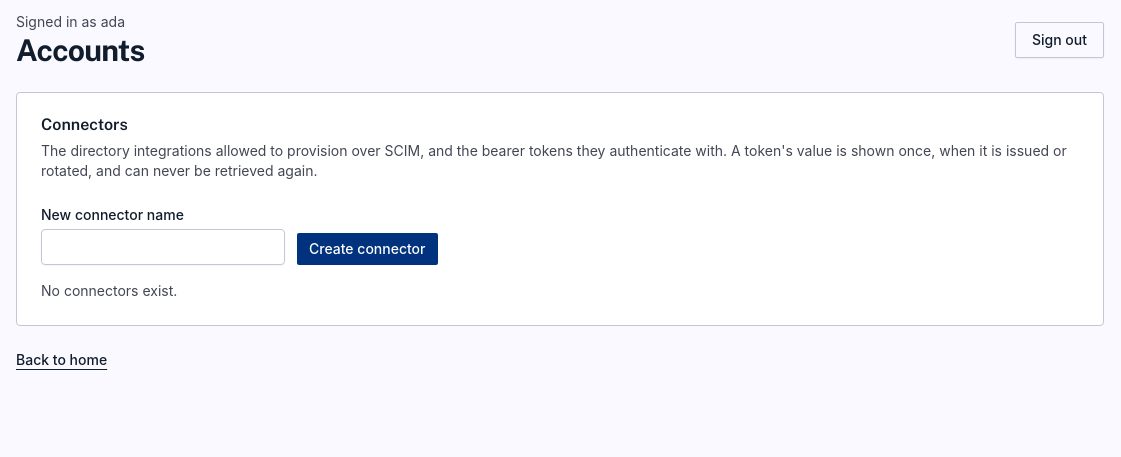
Test: Connectors › reports a failed create naming the connector
Type "Okta" into the field labelled "New connector name".
click(163, 247); type("Okta")  # box [41,229,285,265]
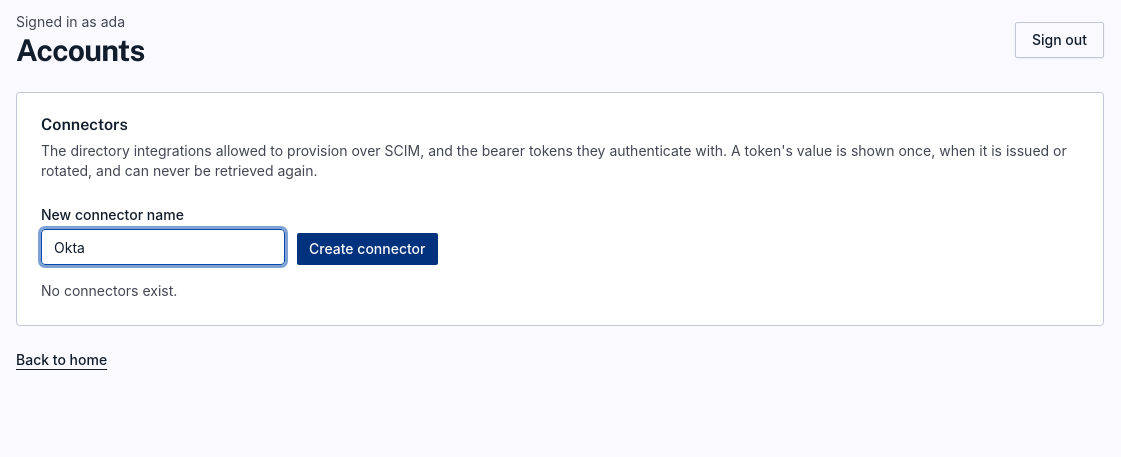
Click the button "Create connector".
click(367, 249)  # box [297,233,438,265]
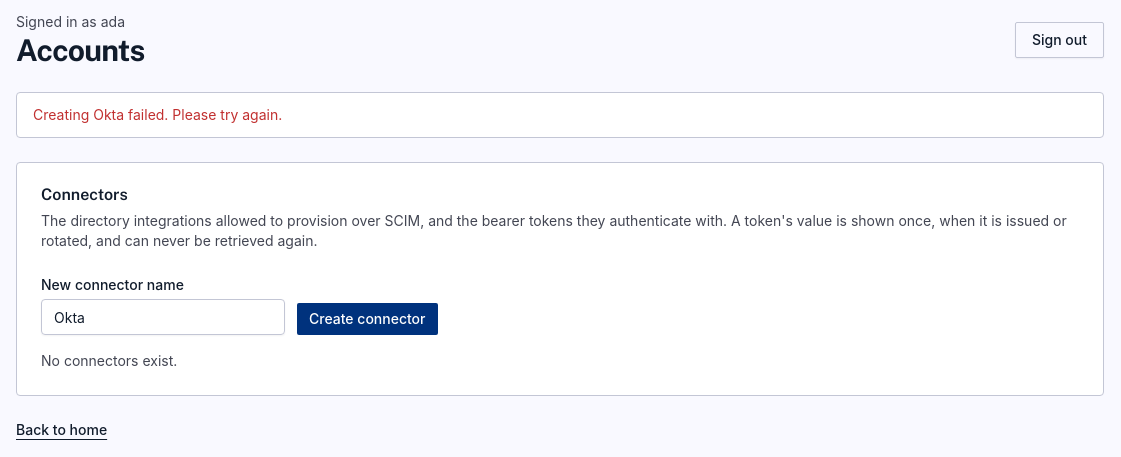
Result: the message reads "Creating Okta failed. Please try again." at [33,106,282,123]
